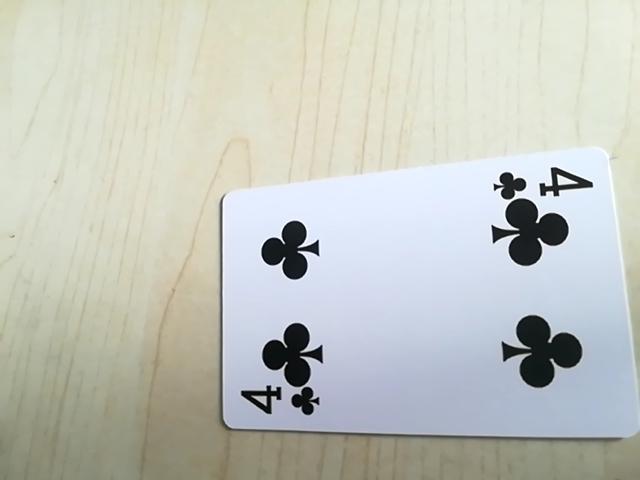mh 4: (490, 160, 597, 202), (235, 382, 325, 423)
